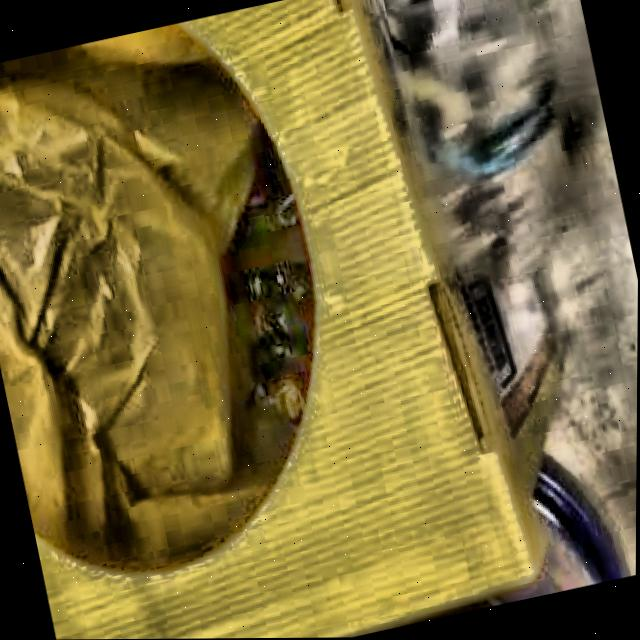plastic: (375, 0, 560, 281)
